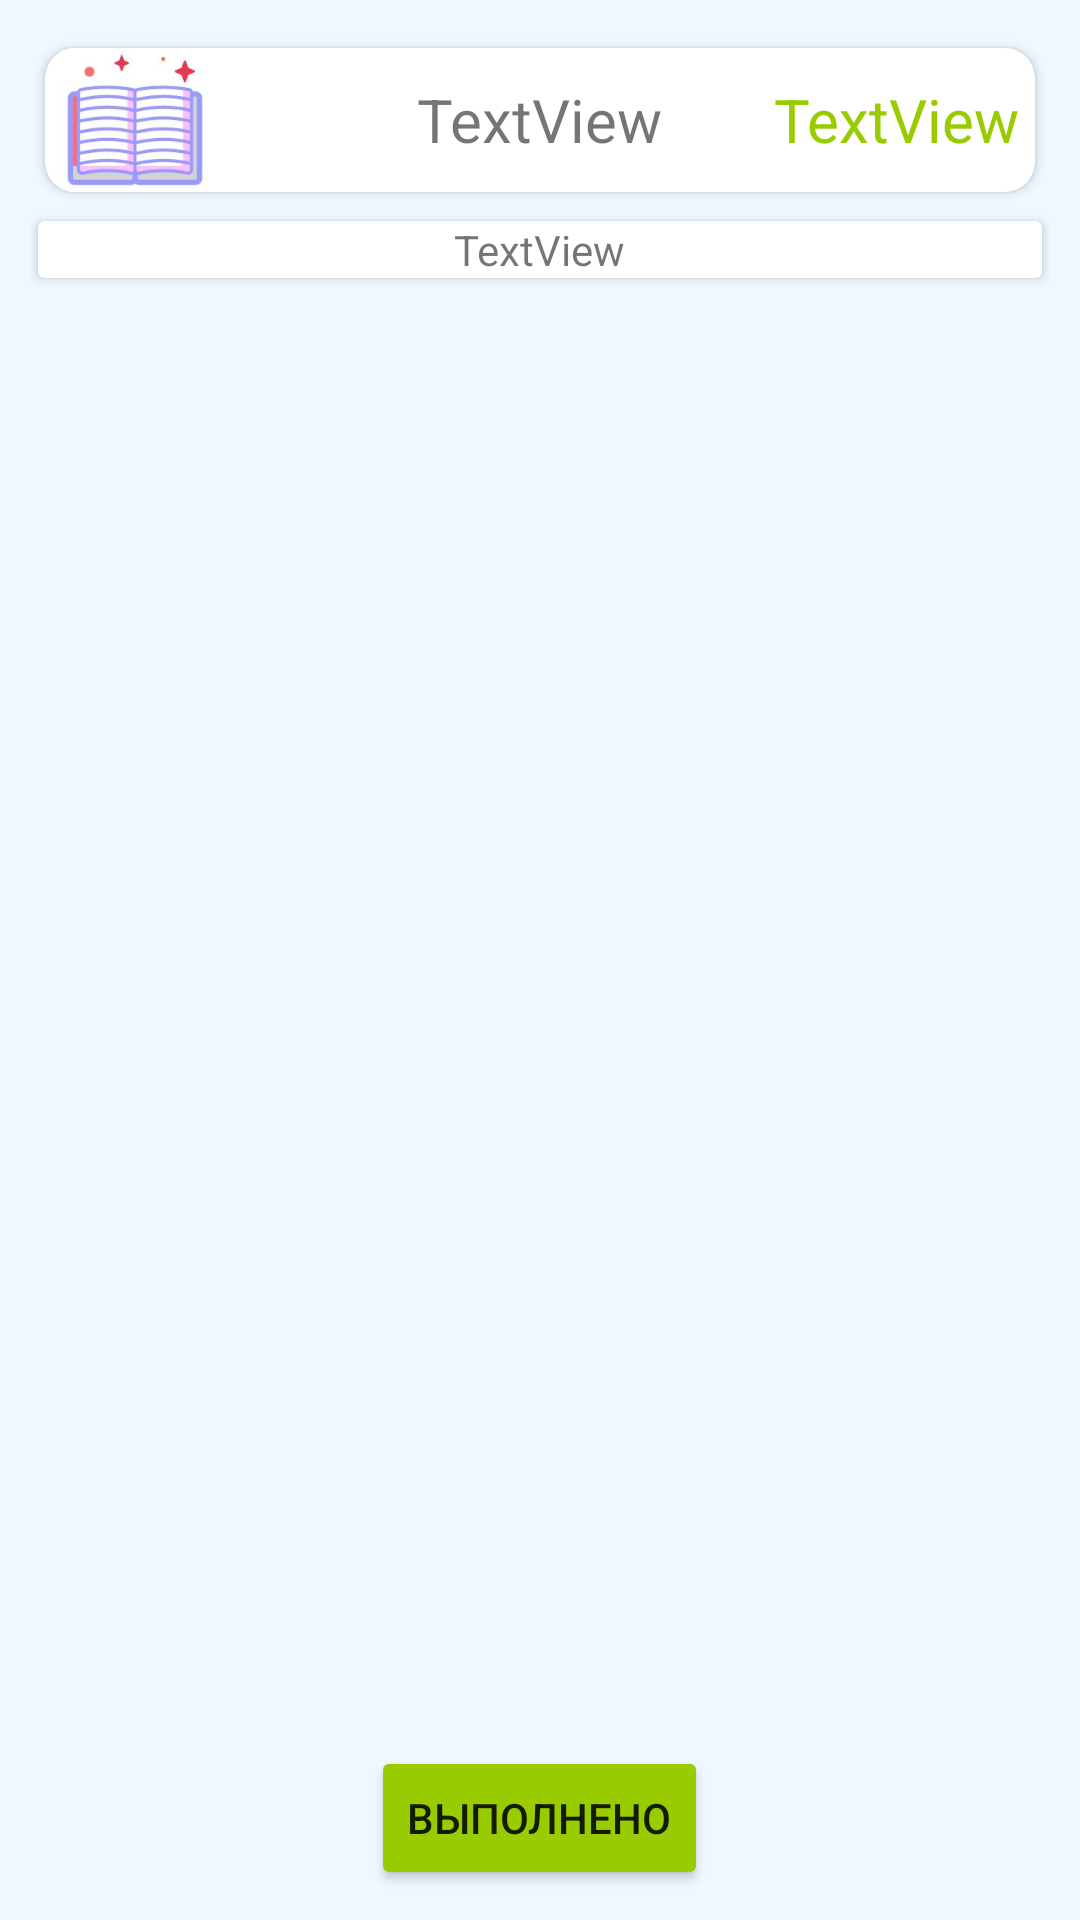

Locate icon controls on the screen. Image size 1080*1920, boxes as (x1, y1, x2, y2).
book: (60, 46, 210, 195)
